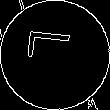L_E: (28, 37, 82, 73)
